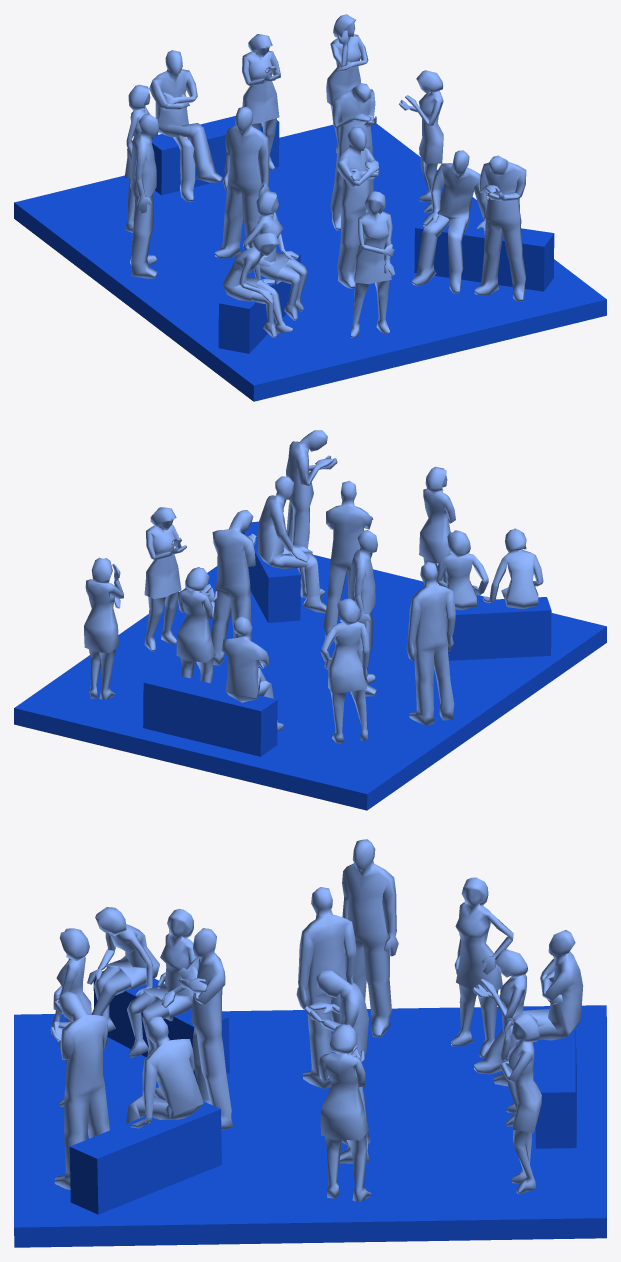
File: crowd.glb
The picture shows the model from 3 angles, top to bottom: view 1: azimuth 30°, elevation 25°; view 2: azimuth 150°, elevation 25°; view 3: azimuth 270°, elevation 25°; orthographic projection. The views are drawn at different scales.
Parts seen in each view (by area): view 1: Plane001_03 - Default_0, 9, 1, 8, 10, Box001_03 - Default_0, 4, 0, 2, 12, 11, Box002_03 - Default_0 (+6 smaller); view 2: Plane001_03 - Default_0, Box002_03 - Default_0, 2, Box003_03 - Default_0, 3, 6, 7, 5, 9, 11, 0, 8 (+6 smaller); view 3: Plane001_03 - Default_0, Box001_03 - Default_0, 2, 8, 7, 1, 0, 6, 9, 10, Box002_03 - Default_0, 5 (+6 smaller).
Boxes of the visible parts, x1,y1,x2,y2 form: Plane001_03 - Default_0: (14, 123, 606, 401); 9: (412, 150, 487, 293); 1: (214, 106, 270, 258); 8: (474, 155, 526, 301); 10: (149, 50, 222, 201); Box001_03 - Default_0: (414, 214, 554, 291); 4: (351, 191, 394, 337); 0: (337, 126, 379, 288); 2: (130, 113, 158, 278); 12: (223, 232, 292, 337); 11: (242, 34, 280, 170); Box002_03 - Default_0: (152, 116, 279, 195); Plane001_03 - Default_0: (14, 555, 606, 810); Box002_03 - Default_0: (143, 671, 277, 756); 2: (406, 561, 455, 725); Box003_03 - Default_0: (448, 597, 551, 660); 3: (211, 510, 256, 665); 6: (320, 598, 369, 743); 7: (144, 507, 186, 651); 5: (84, 557, 123, 700); 9: (257, 476, 326, 613); 11: (176, 567, 217, 683); 0: (323, 480, 373, 641); 8: (286, 430, 337, 587); Plane001_03 - Default_0: (14, 1005, 606, 1247); Box001_03 - Default_0: (69, 1101, 221, 1214); 2: (342, 839, 398, 1037); 8: (51, 991, 109, 1189); 7: (318, 1023, 371, 1202); 1: (296, 887, 356, 1089); 0: (178, 928, 233, 1130); 6: (451, 877, 513, 1057); 9: (125, 1016, 203, 1128); 10: (474, 930, 583, 1086); Box002_03 - Default_0: (534, 1028, 576, 1148); 5: (499, 1012, 541, 1194).
Bounding box in the file's own units: 405 × 192 × 477.
